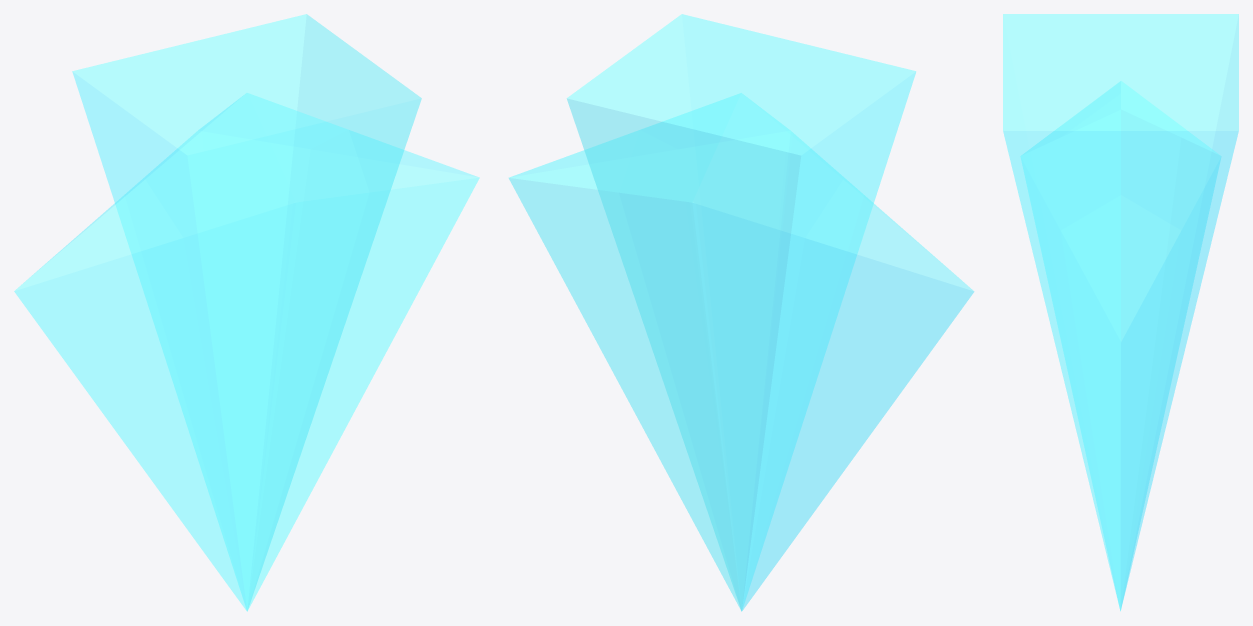
Rendered from cursor.glb.
3 views of the same model, side by side, from view 1: azimuth 30°, elevation 25°; view 2: azimuth 150°, elevation 25°; view 3: azimuth 270°, elevation 25° (orthographic). The views are drawn at different scales.
Parts seen in each view (by area): view 1: about-carousel-right; view 2: about-carousel-right; view 3: about-carousel-right.
Boxes of the visible parts, x1,y1,x2,y2 form: about-carousel-right: (14,14,479,611); about-carousel-right: (509,14,974,611); about-carousel-right: (1003,14,1238,611).
Bounding box in the file's own units: 0.4645 × 0.502 × 0.1989.
